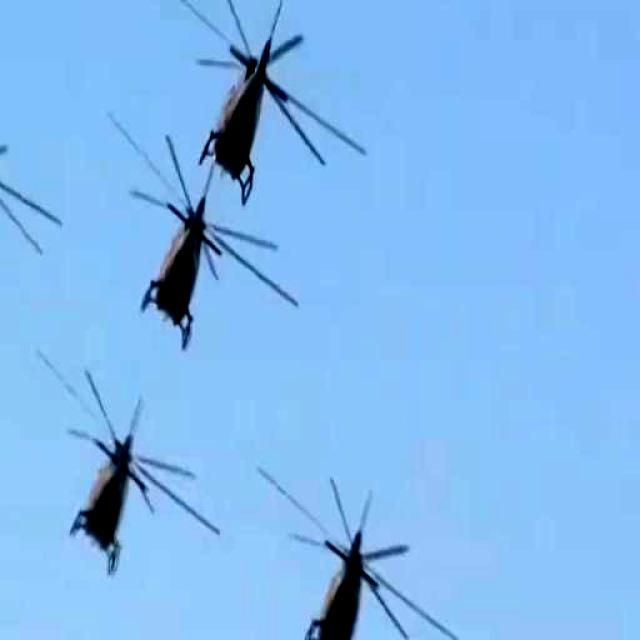drone: (60, 389, 184, 604), (192, 0, 309, 191), (124, 146, 241, 336), (276, 499, 415, 640), (0, 84, 38, 312)
